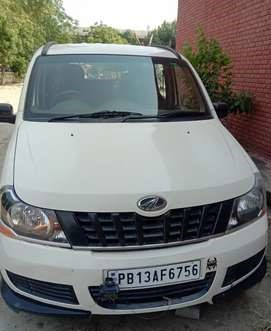PB13AF6756: (107, 257, 201, 285)
